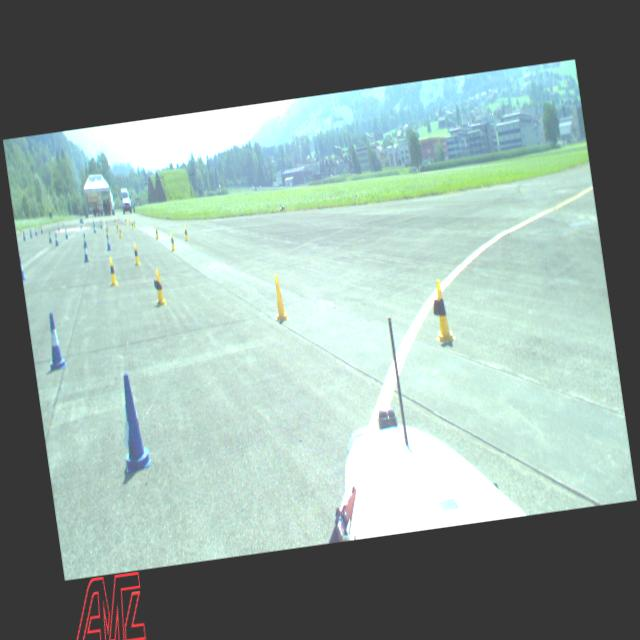blue_cone: (114, 371, 152, 473), (42, 313, 68, 372), (82, 244, 90, 263), (20, 256, 26, 280), (105, 234, 111, 250), (54, 233, 59, 246), (83, 234, 87, 247), (64, 227, 68, 240), (48, 230, 52, 242), (34, 227, 38, 236), (23, 230, 26, 241), (29, 228, 32, 238), (93, 224, 96, 233), (40, 224, 43, 233)
yellow_cone: (428, 278, 456, 344), (270, 274, 289, 321), (153, 268, 167, 306), (107, 257, 118, 286), (132, 242, 140, 266), (183, 225, 190, 241), (170, 232, 176, 250), (154, 227, 160, 240), (119, 226, 122, 239), (116, 222, 119, 234), (131, 219, 134, 230), (128, 218, 132, 226), (124, 217, 128, 225), (20, 227, 22, 236), (38, 224, 40, 233), (114, 217, 116, 225), (134, 220, 136, 228)
